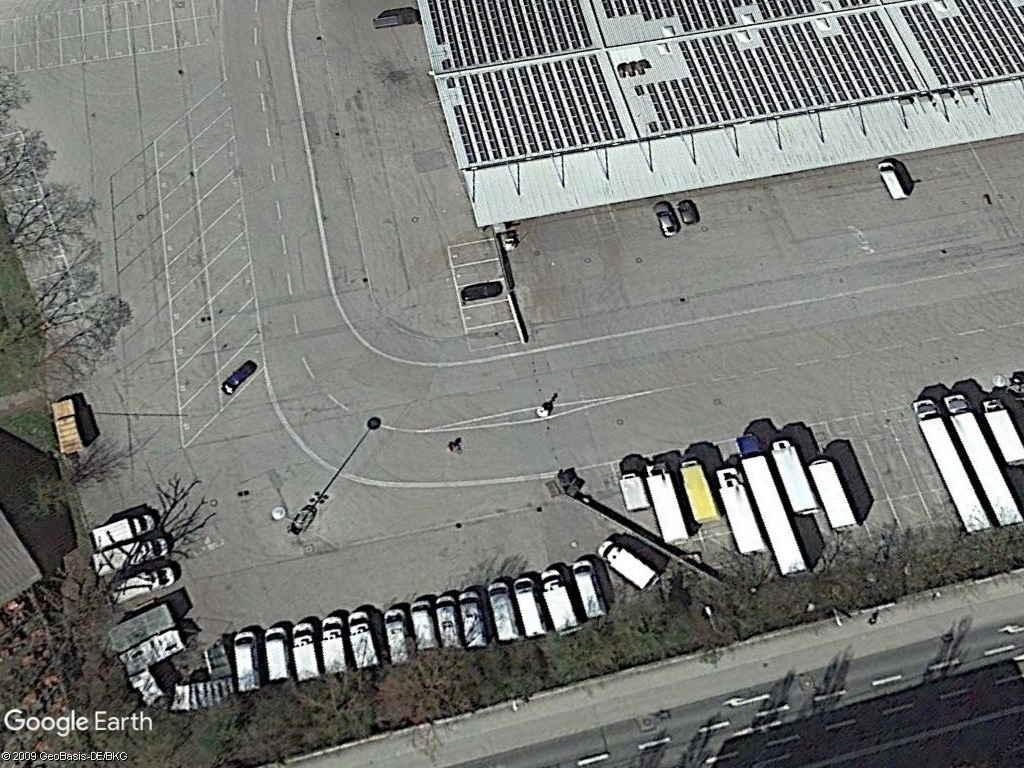car: (650, 198, 682, 241)
longvehicle: (935, 393, 1020, 536), (731, 430, 810, 575), (910, 396, 989, 537)
truck: (712, 463, 767, 560), (766, 434, 822, 519), (808, 452, 861, 533), (643, 459, 690, 547), (596, 536, 662, 595), (676, 454, 724, 524), (981, 388, 1024, 466), (538, 566, 583, 636), (346, 607, 386, 675), (318, 612, 352, 681), (288, 620, 322, 686)
van: (483, 574, 525, 648), (513, 573, 550, 644), (570, 556, 609, 621), (232, 626, 266, 695), (456, 587, 491, 653), (262, 622, 294, 684), (873, 157, 909, 204)
